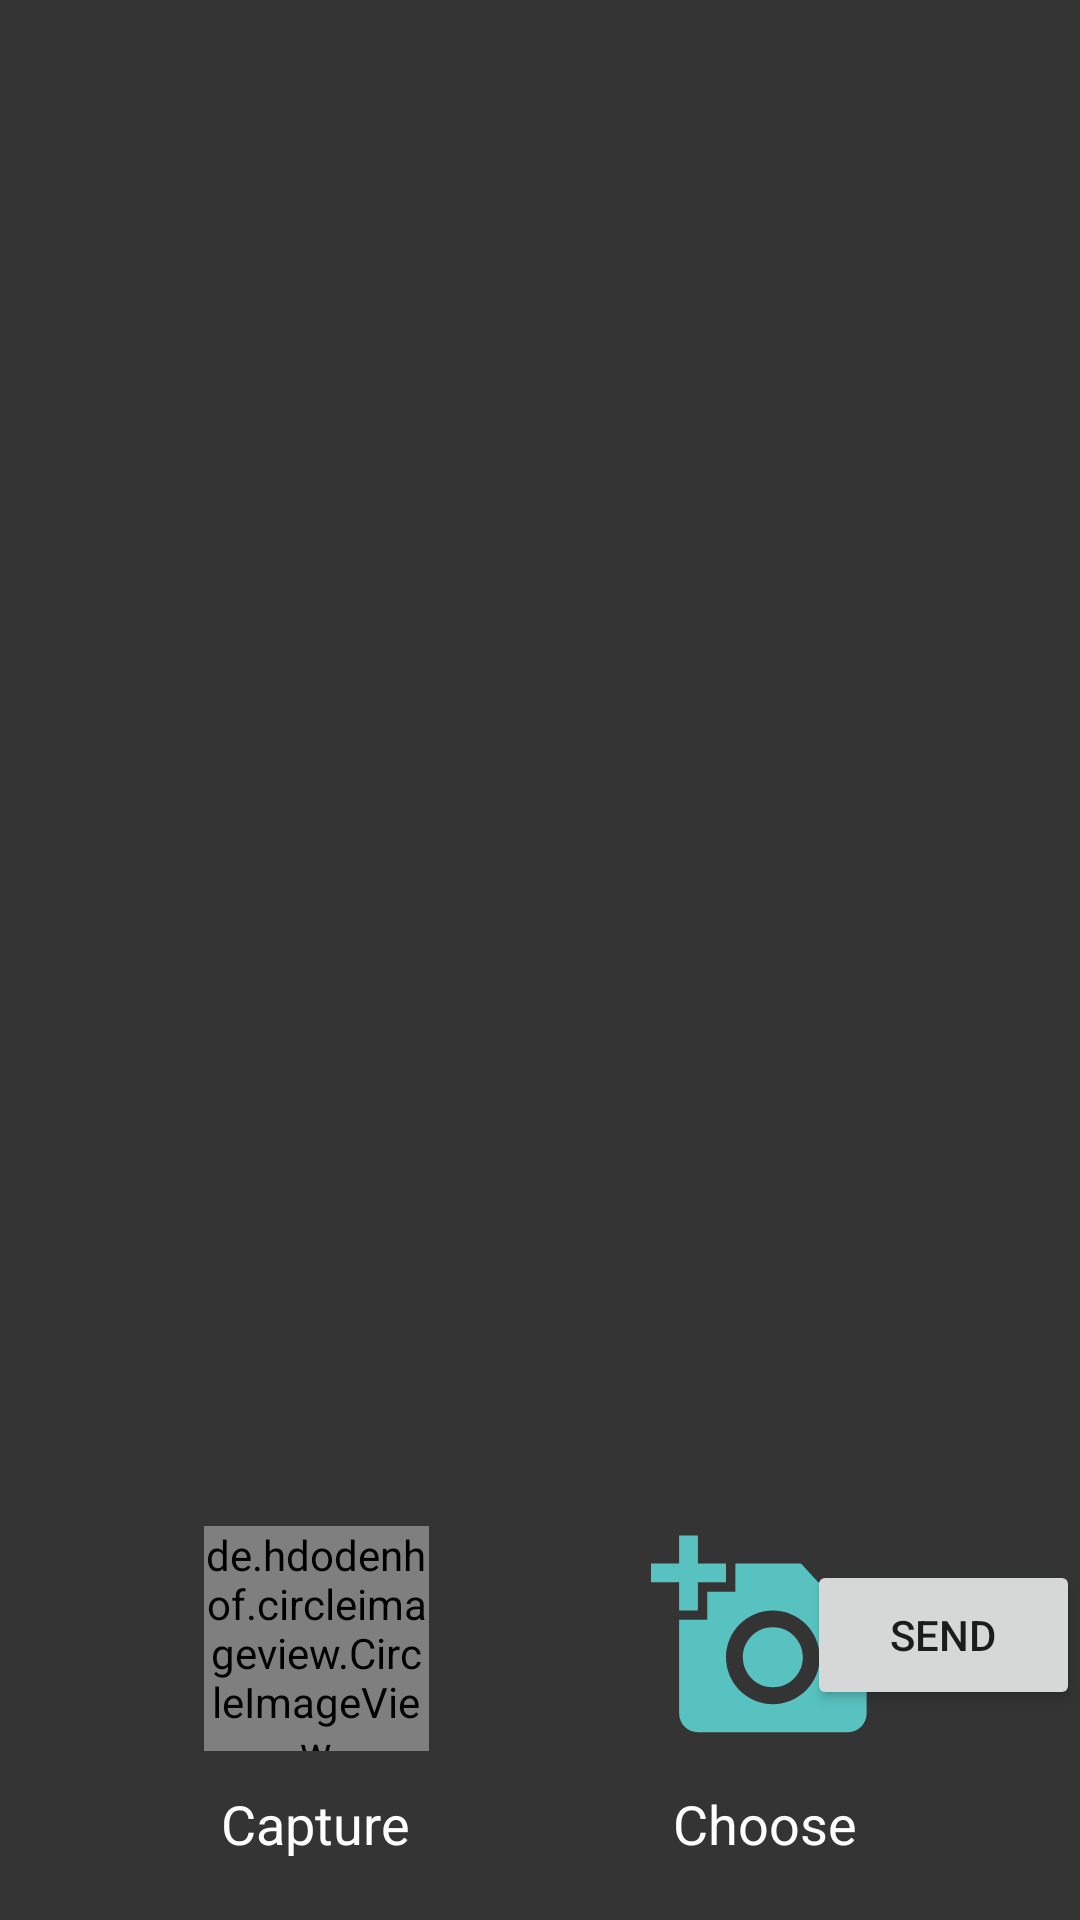

Screen size 1080×1920. Icon name, then its center in pixels as (x,y):
addphoto: (763,1634)
